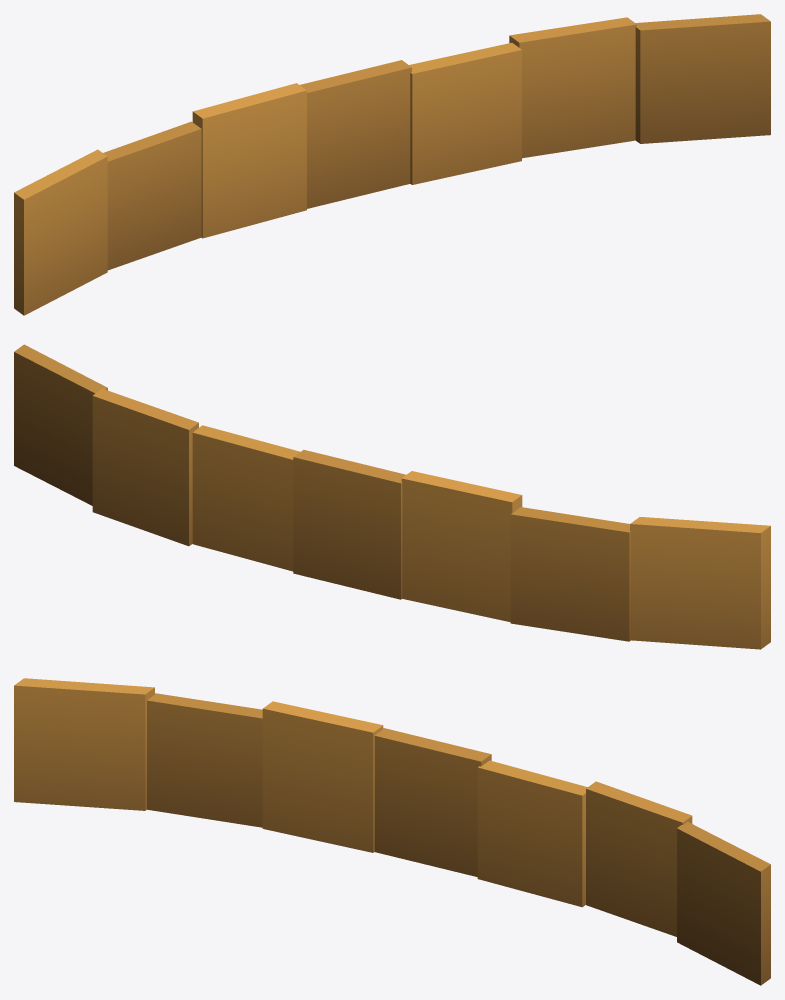
File: Border.fbx
The picture shows the model from 3 angles, top to bottom: view 1: azimuth 30°, elevation 25°; view 2: azimuth 150°, elevation 25°; view 3: azimuth 330°, elevation 25°; orthographic projection.
Visible parts, largest first — view 1: BorderMesh; view 2: BorderMesh; view 3: BorderMesh.
Part boxes in pixels (bbox=[...]): BorderMesh: bbox=[14, 14, 770, 315]; BorderMesh: bbox=[14, 344, 770, 649]; BorderMesh: bbox=[14, 678, 770, 985].
Bounding box in the file's own units: 2.28 × 0.3496 × 0.2669.
